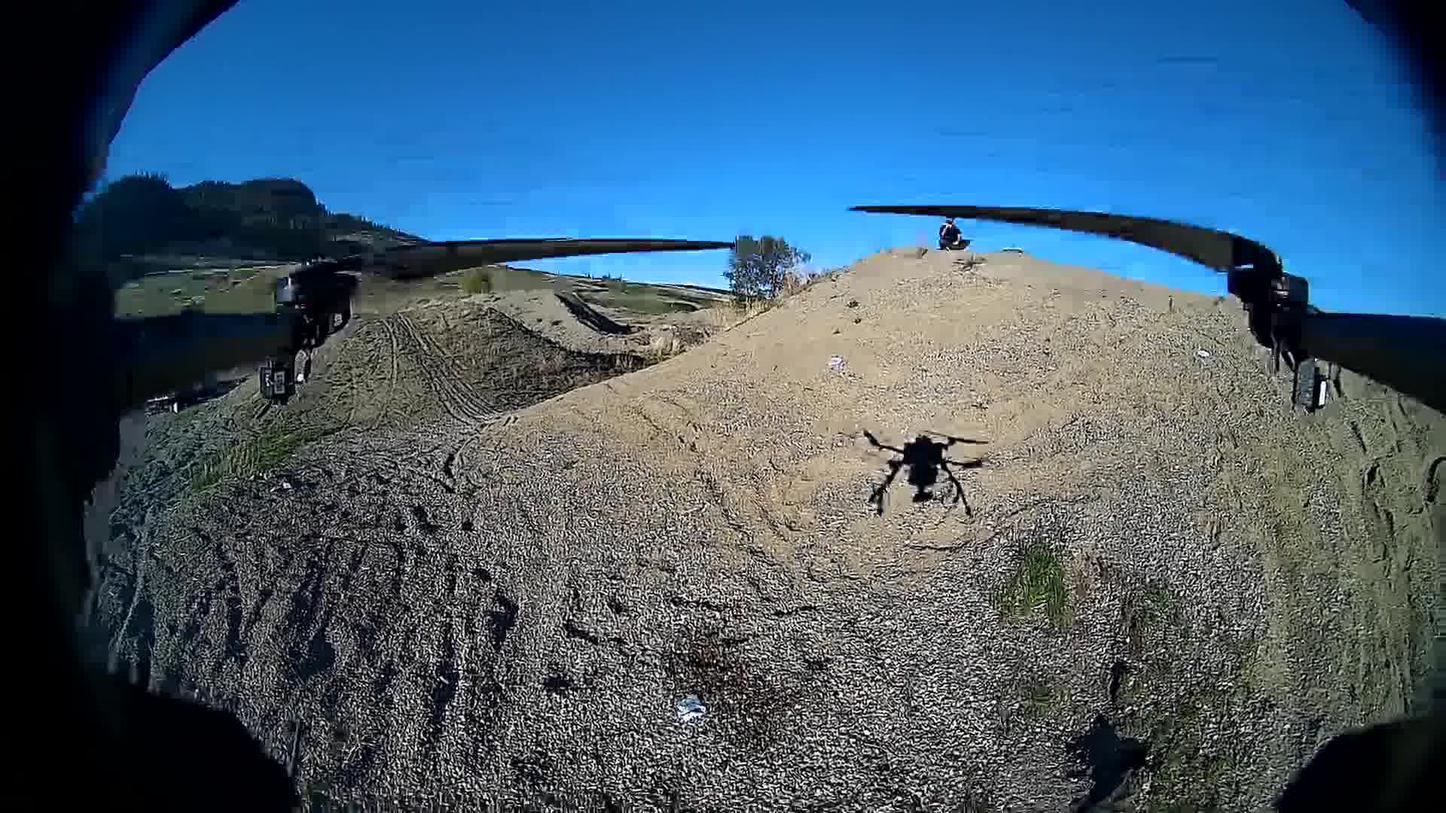Target: (676, 694, 702, 717)
